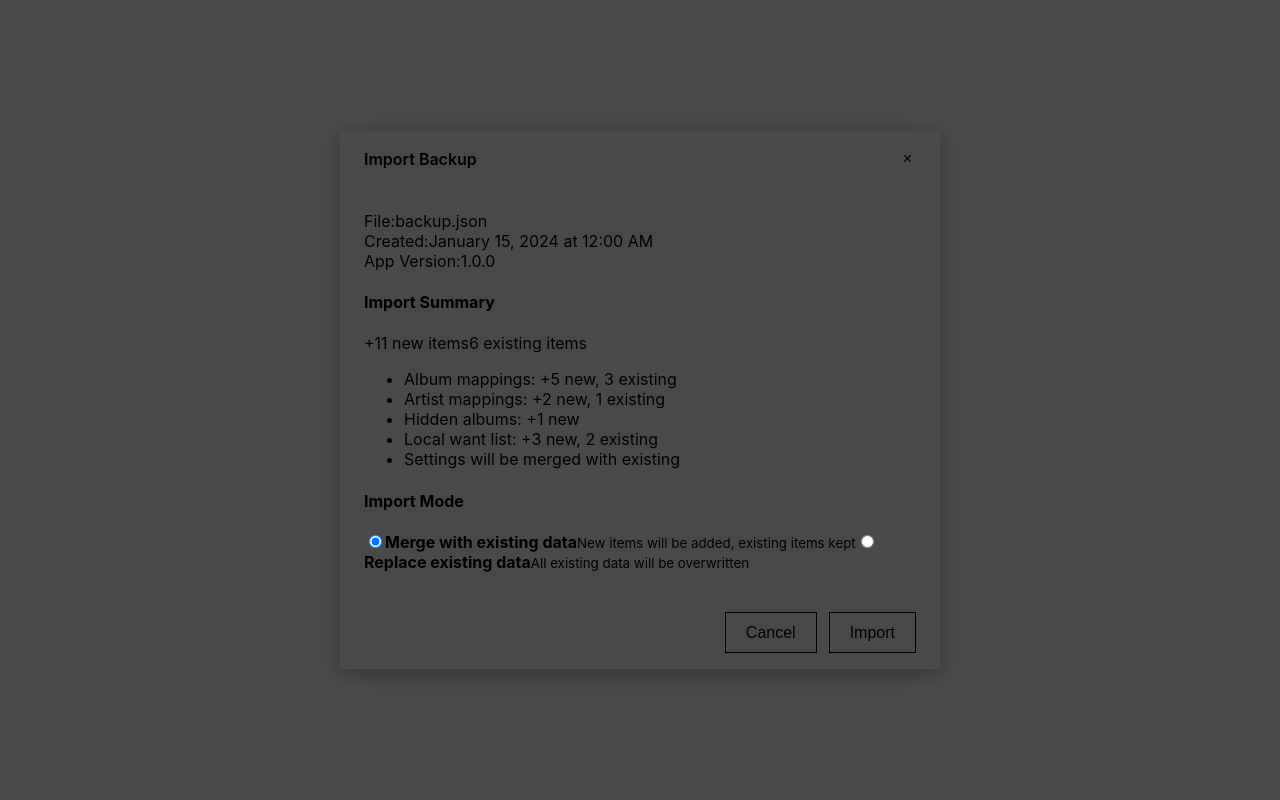
Test: BackupImportDialog › shows error on import exception
Click the button "Import": (872,632) [829,612,916,653]
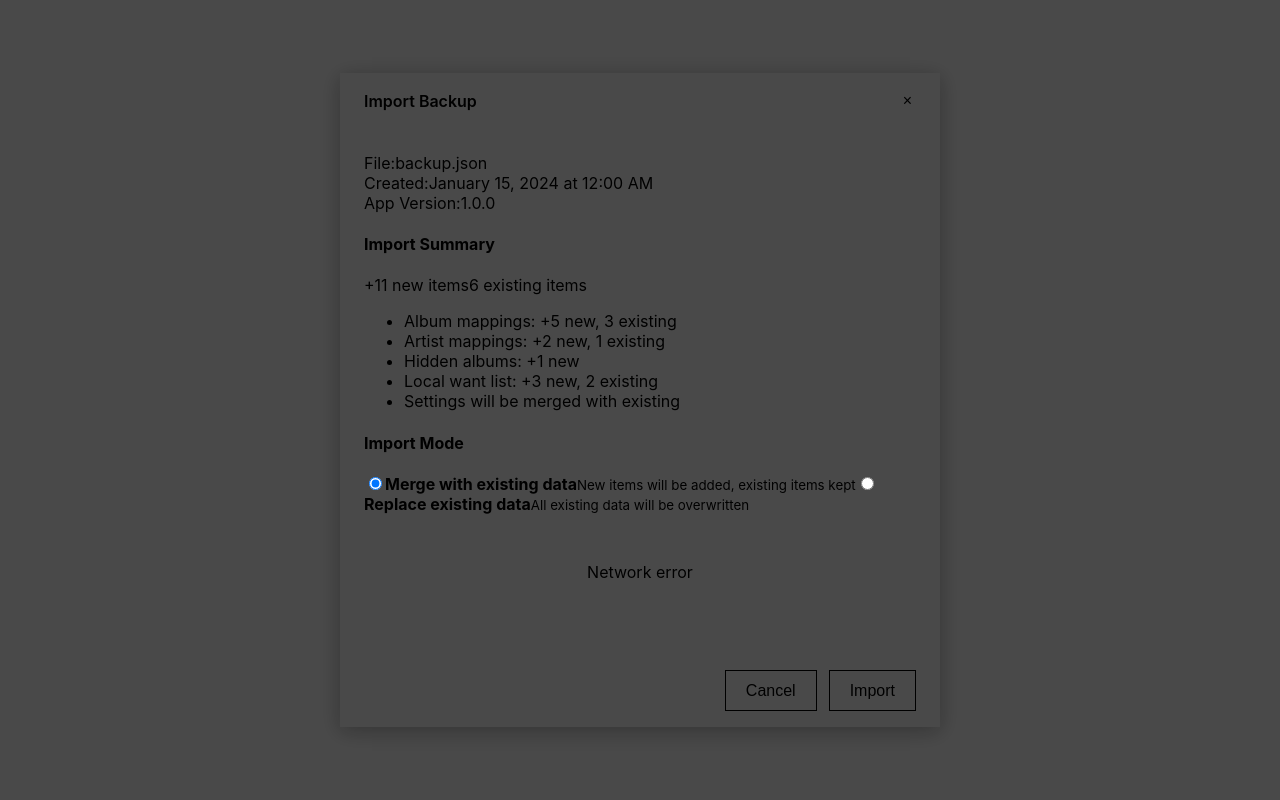
Expected: the text "Network error" is shown, [587,562,693,582]
